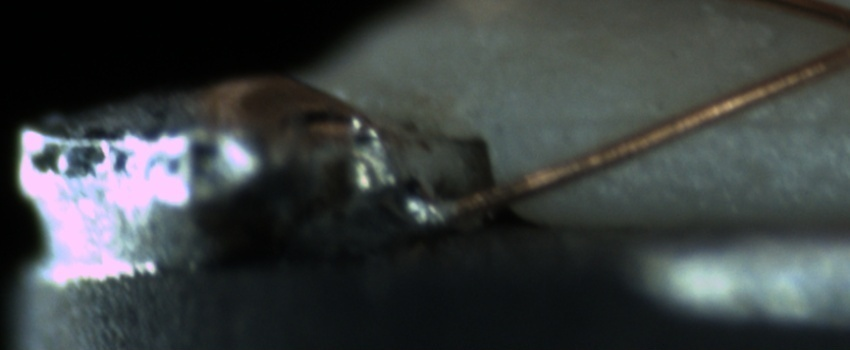DL: (536, 88, 850, 153)
